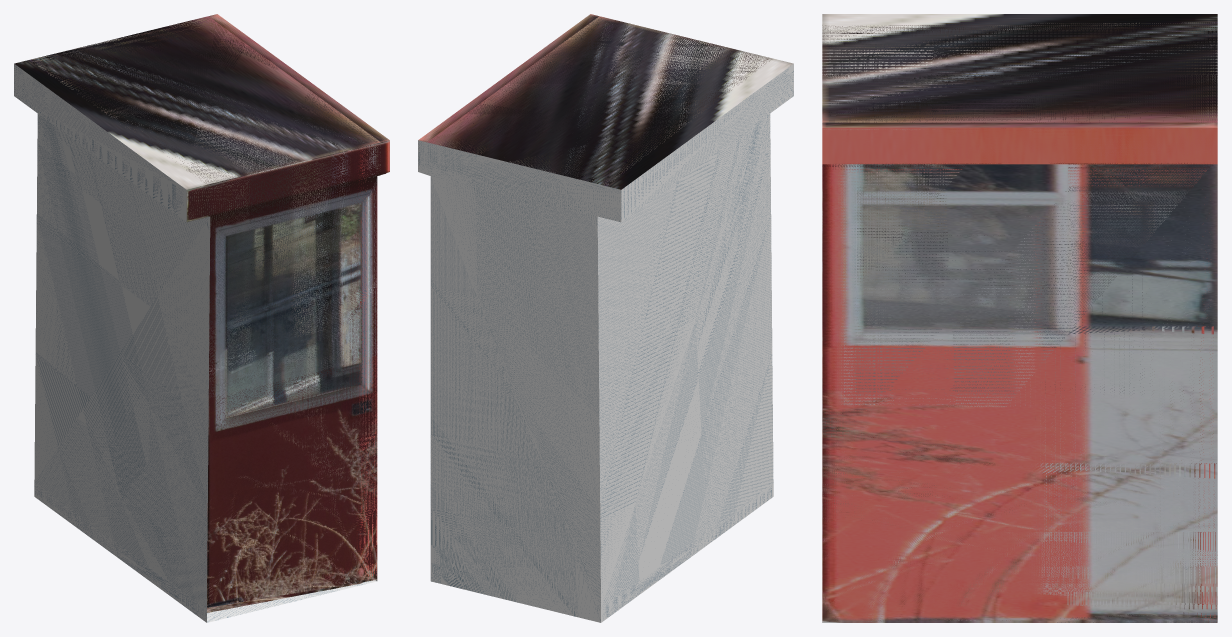
Rendered from Red Booth.fbx.
3 renders of one model, left to right at view 1: azimuth 30°, elevation 25°; view 2: azimuth 150°, elevation 25°; view 3: azimuth 270°, elevation 25°, orthographic. The views are drawn at different scales.
Visible parts, largest first — view 1: Model; view 2: Model; view 3: Model.
Part boxes in pixels (left/top/right/bottom): Model: left=14, top=14, right=389, bottom=622; Model: left=418, top=14, right=793, bottom=622; Model: left=822, top=14, right=1217, bottom=622.
Bounding box in the file's own units: 86.05 × 177 × 126.
